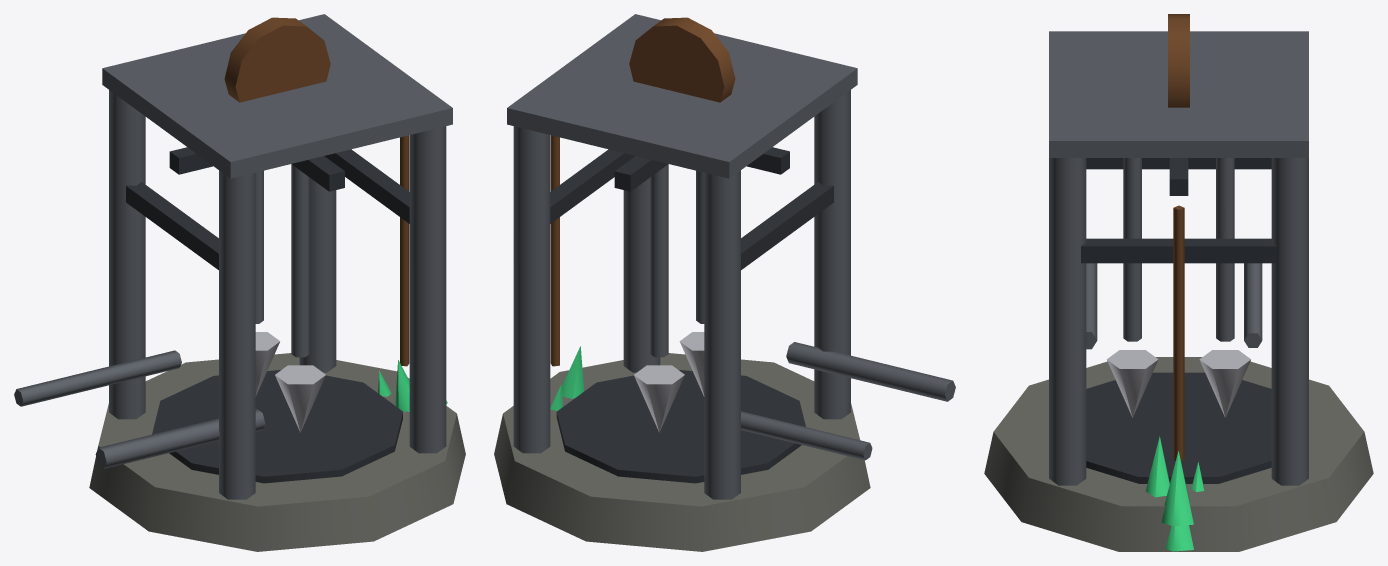
Rendered from level2.glb.
3 views of the same model, side by side, from view 1: azimuth 30°, elevation 25°; view 2: azimuth 150°, elevation 25°; view 3: azimuth 270°, elevation 25° (orthographic).
Bounding box in the file's own units: 2.6 × 2.88 × 2.23.
